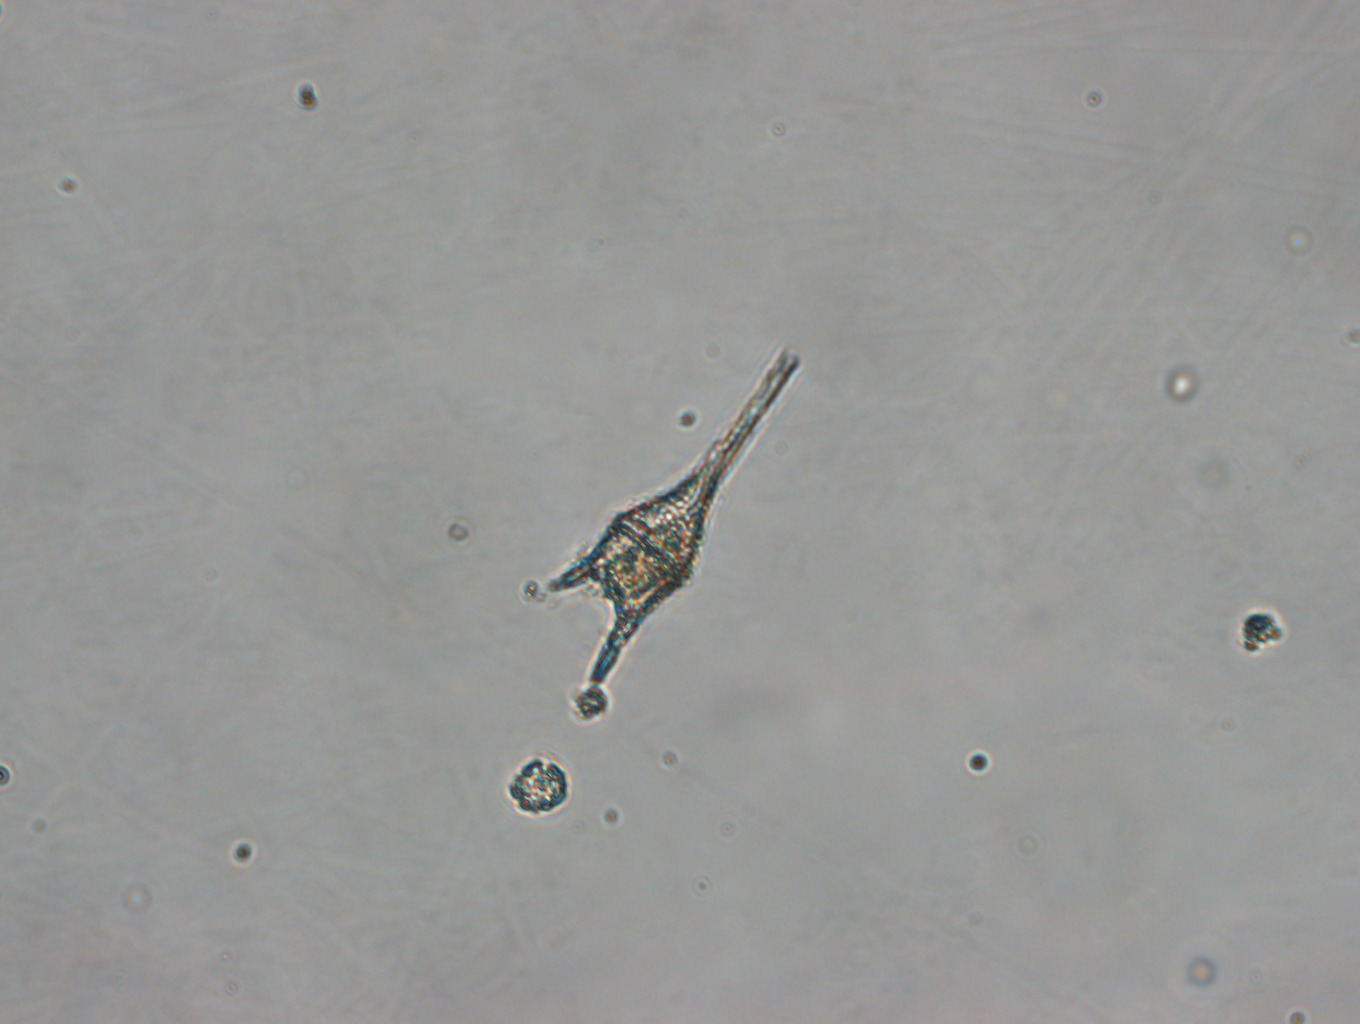ceratium furca: (545, 345, 806, 688)
